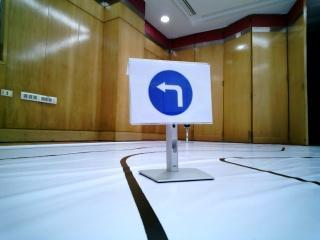left: (133, 58, 213, 124)
